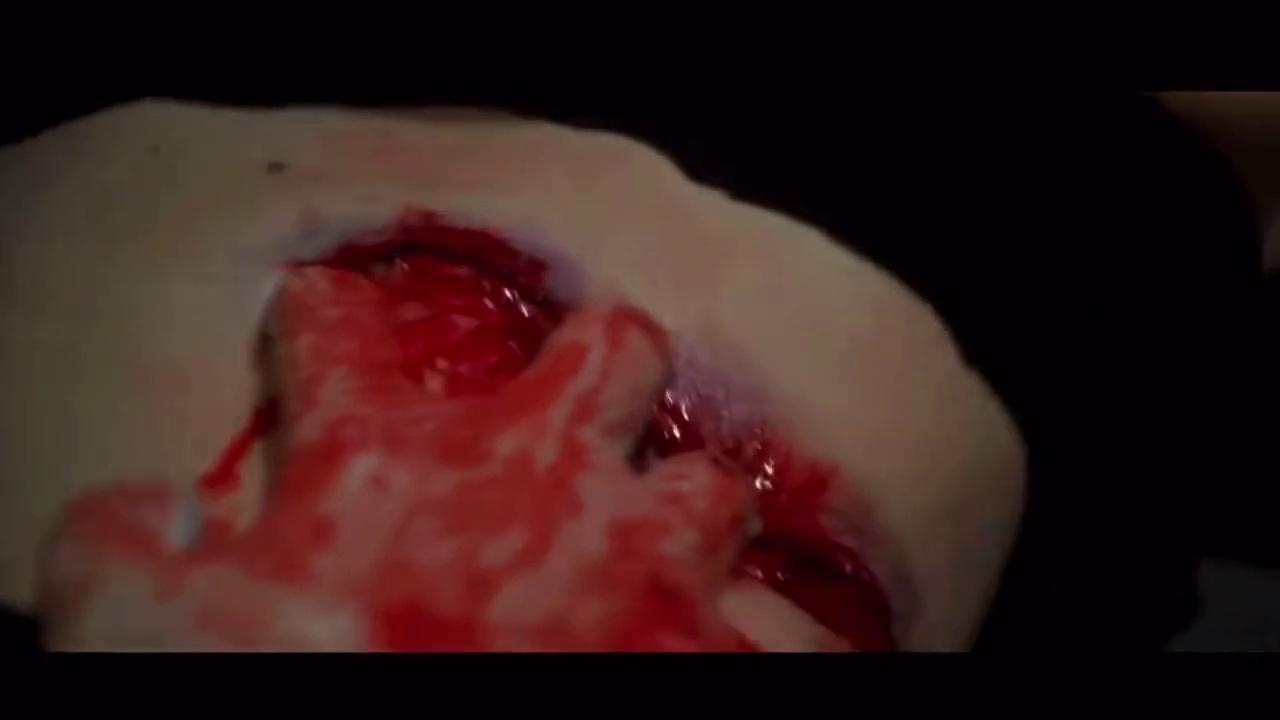Fire: (40, 210, 919, 651)
